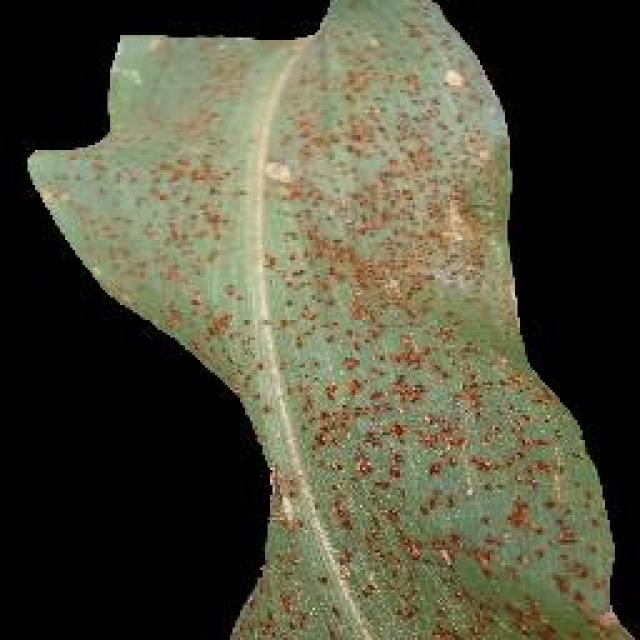Corn Common Rust: (152, 110, 485, 570)
